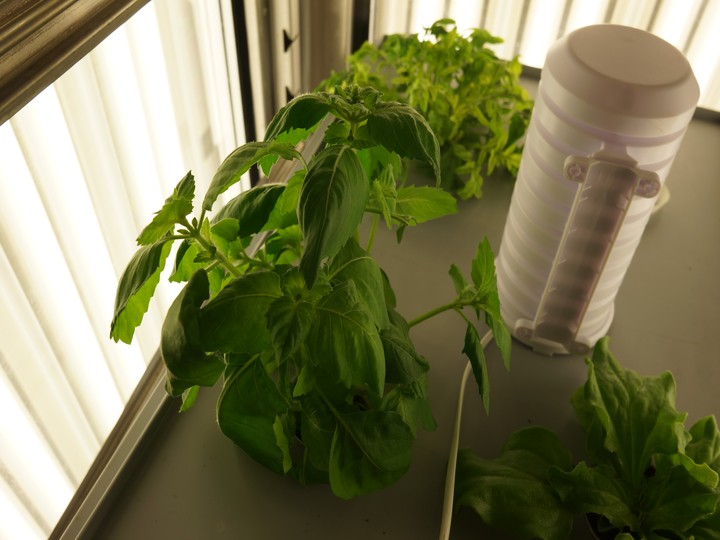basilic_blue_spice: (86, 76, 520, 500)
ficoide_glaciale: (456, 340, 719, 540)
roquette_sauvage_red_veined: (401, 19, 542, 192)
